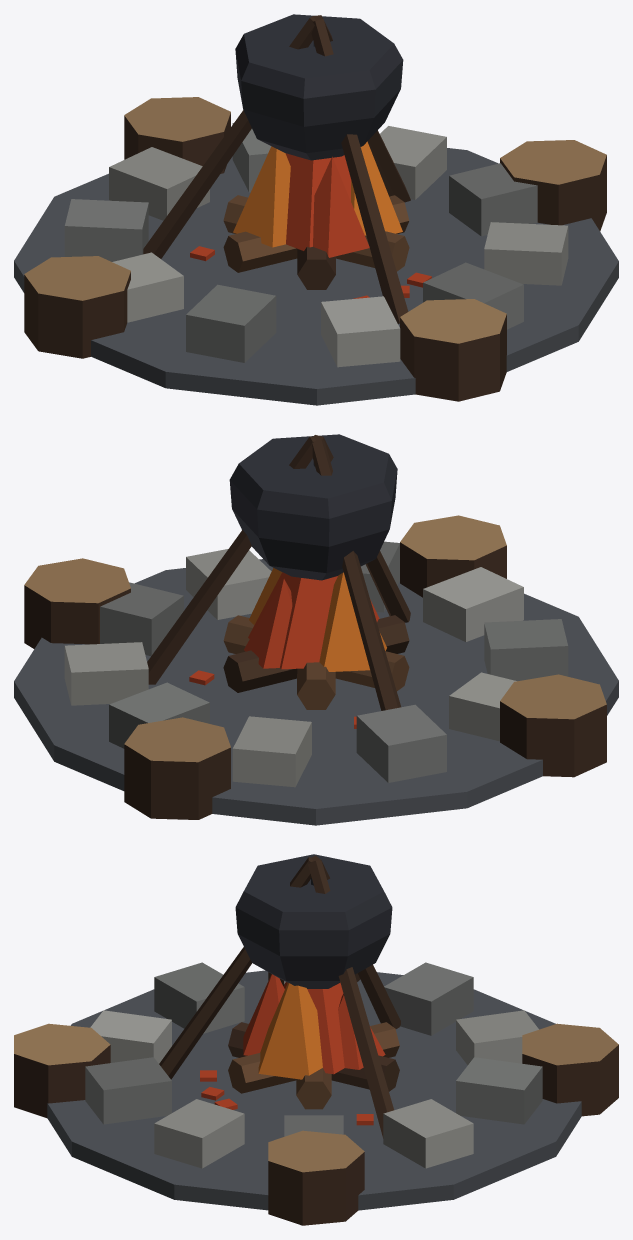
The model's file is Decor_VikingLonghouse_FirePit.fbx.
The picture shows the model from 3 angles, top to bottom: view 1: azimuth 30°, elevation 25°; view 2: azimuth 150°, elevation 25°; view 3: azimuth 270°, elevation 25°; orthographic projection. The views are drawn at different scales.
Parts seen in each view (by area): view 1: FirePit_Body; view 2: FirePit_Body; view 3: FirePit_Body.
Boxes of the visible parts, box(x1,y1,x2,y2) form: FirePit_Body: box(14, 14, 618, 405); FirePit_Body: box(14, 434, 618, 825); FirePit_Body: box(14, 854, 618, 1225).
Bounding box in the file's own units: 14.4 × 6.3 × 14.4.
